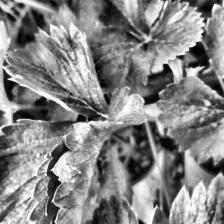Powdery Mildew Leaf: (0, 22, 110, 118), (45, 120, 125, 224)
